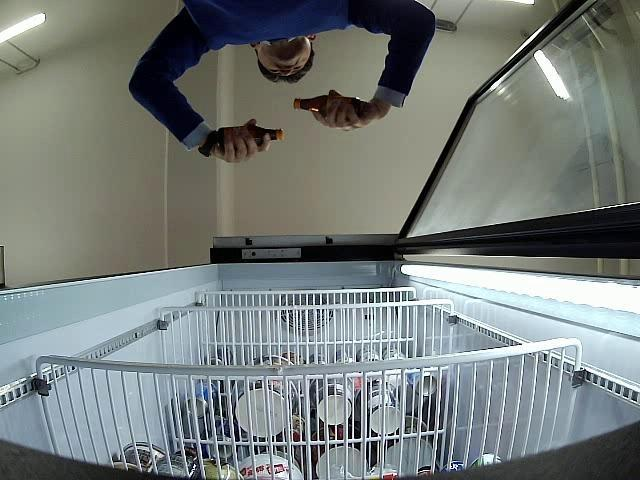17_vita500: (293, 96, 360, 120), (218, 126, 282, 149)
